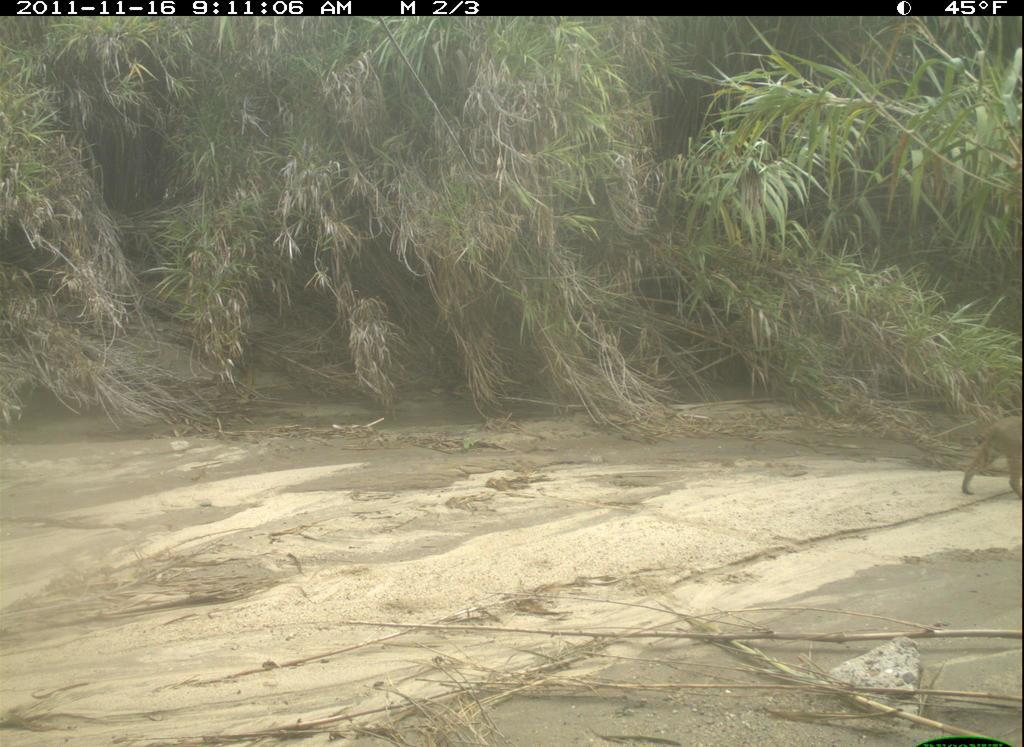bobcat: (961, 406, 1023, 513)
